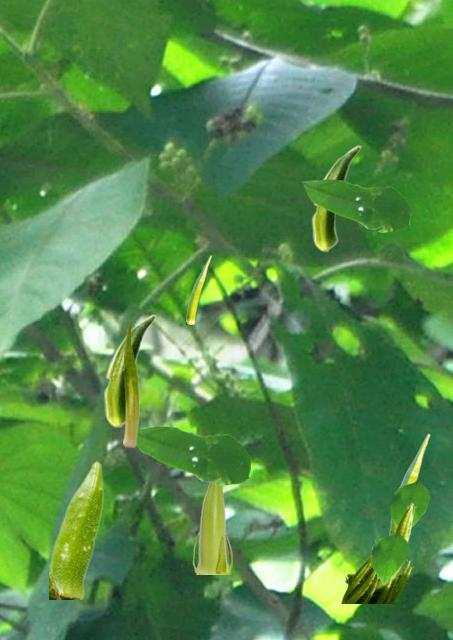okra: (340, 502, 415, 602), (49, 460, 103, 598), (103, 314, 155, 427), (311, 145, 360, 251), (389, 433, 429, 534), (192, 480, 231, 573), (123, 320, 138, 446), (186, 255, 210, 323)
